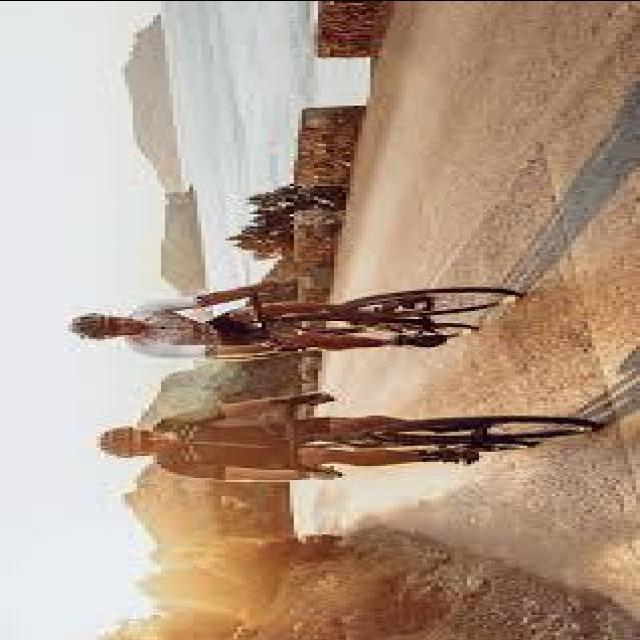bicycle: (291, 404, 605, 473), (235, 285, 525, 355)
